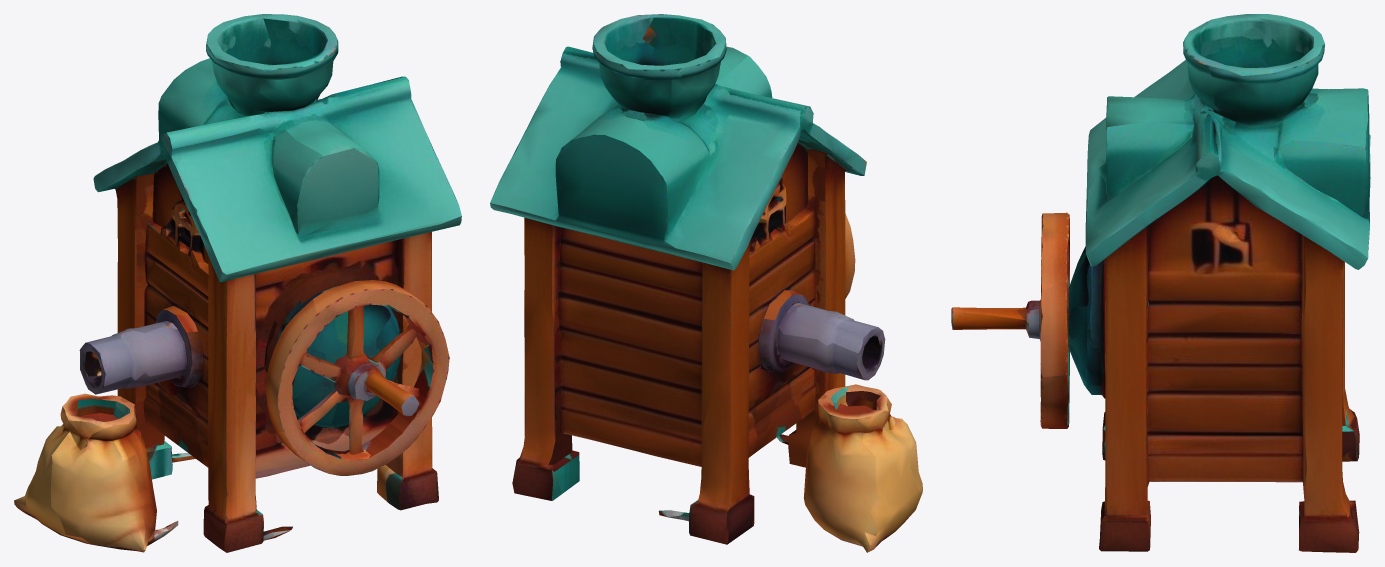
Rendered from feed_mill.glb.
3 views of the same model, side by side, from view 1: azimuth 30°, elevation 25°; view 2: azimuth 150°, elevation 25°; view 3: azimuth 270°, elevation 25° (orthographic). The views are drawn at different scales.
Parts seen in each view (by area): view 1: feed_mill; view 2: feed_mill; view 3: feed_mill.
Part boxes in pixels (x1,y1,x2,y2): feed_mill: (14, 14, 461, 552); feed_mill: (490, 14, 922, 552); feed_mill: (951, 14, 1370, 552).
Size of the model in its own units: 0.8518 by 1 by 0.8243.
Materials: 1 (1 with a texture image).
